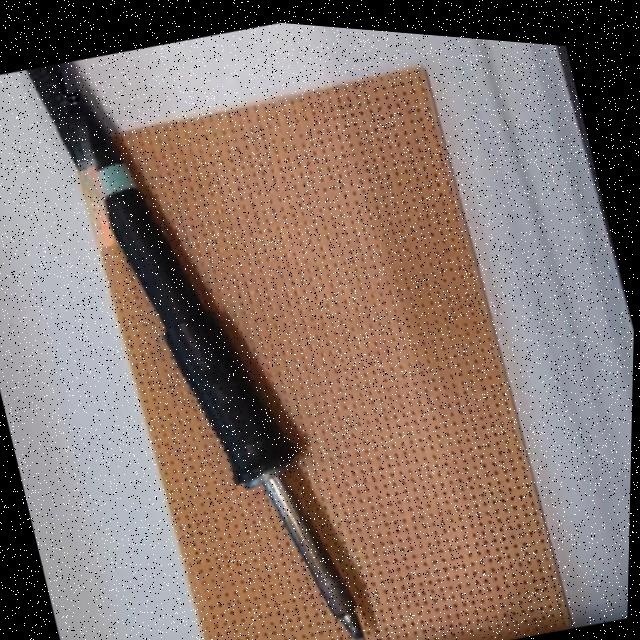soldering_iron: (4, 23, 383, 640)
